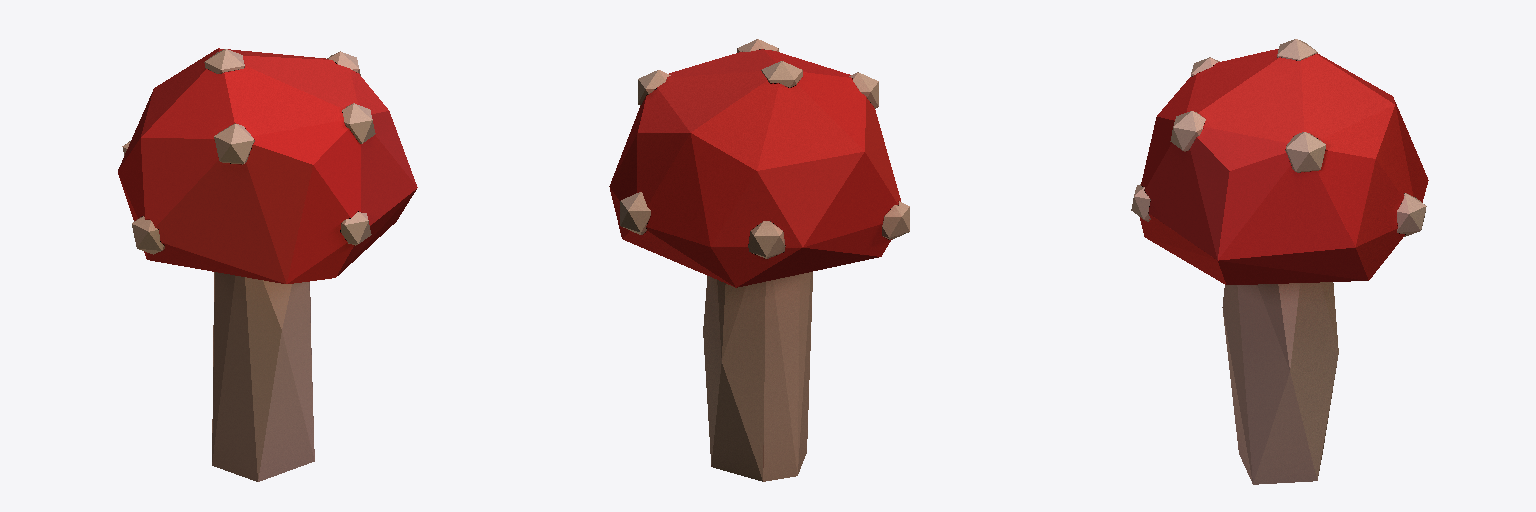
The picture shows the model from 3 angles: view 1: azimuth 30°, elevation 25°; view 2: azimuth 150°, elevation 25°; view 3: azimuth 270°, elevation 25°; orthographic projection.
Parts seen in each view (by area): view 1: Mushroom1_Icosphere.001; view 2: Mushroom1_Icosphere.001; view 3: Mushroom1_Icosphere.001.
Part boxes in pixels (x1,y1,x2,y2): Mushroom1_Icosphere.001: (118,48,417,481); Mushroom1_Icosphere.001: (609,39,909,481); Mushroom1_Icosphere.001: (1131,39,1428,484).
Size of the model in its own units: 0.3985 by 0.6026 by 0.3931.
2 materials, 1 textured.